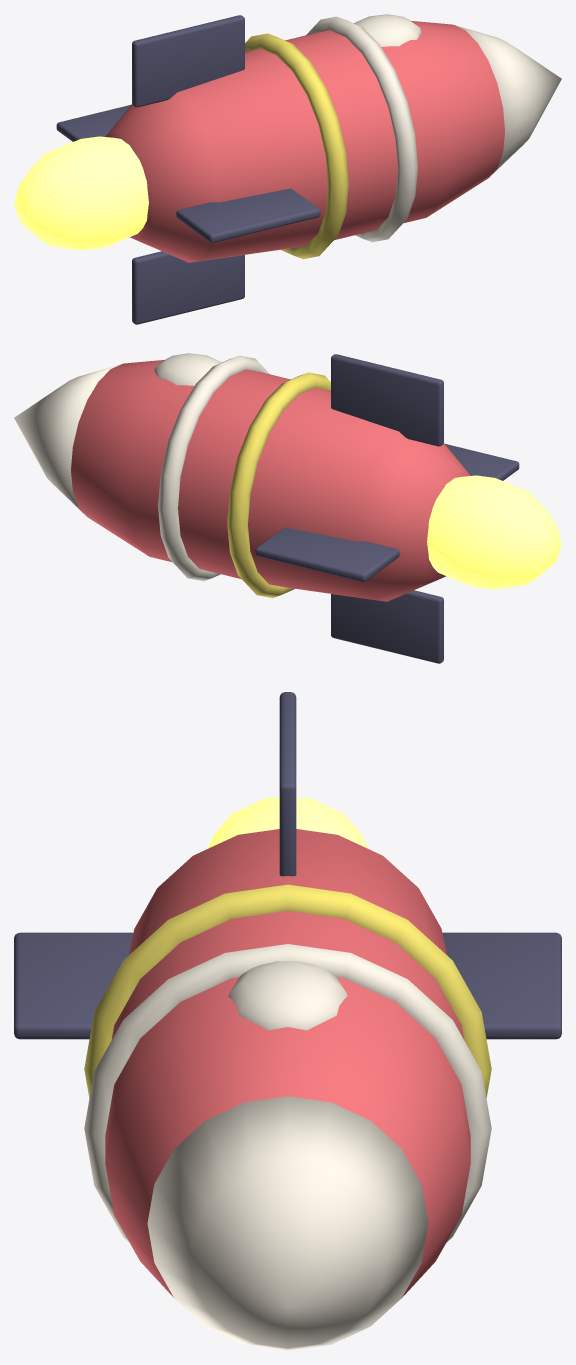
The model's file is weap_missile.glb.
3 renders of one model, top to bottom at view 1: azimuth 30°, elevation 25°; view 2: azimuth 150°, elevation 25°; view 3: azimuth 270°, elevation 25°, orthographic. The views are drawn at different scales.
Parts seen in each view (by area): view 1: W_Missile__ms_red, W_Missile__ms_navy, W_Missile__ms_glow, W_Missile__ms_cream, W_Missile__ms_yellow; view 2: W_Missile__ms_red, W_Missile__ms_navy, W_Missile__ms_glow, W_Missile__ms_cream, W_Missile__ms_yellow; view 3: W_Missile__ms_cream, W_Missile__ms_red, W_Missile__ms_navy, W_Missile__ms_yellow, W_Missile__ms_glow.
Part boxes in pixels (bbox=[...]): W_Missile__ms_red: bbox=[105, 21, 504, 262]; W_Missile__ms_navy: bbox=[56, 15, 320, 324]; W_Missile__ms_glow: bbox=[14, 136, 148, 250]; W_Missile__ms_cream: bbox=[306, 14, 561, 242]; W_Missile__ms_yellow: bbox=[245, 33, 348, 259]; W_Missile__ms_red: bbox=[71, 360, 470, 601]; W_Missile__ms_navy: bbox=[255, 354, 519, 663]; W_Missile__ms_glow: bbox=[427, 475, 561, 589]; W_Missile__ms_cream: bbox=[14, 353, 269, 581]; W_Missile__ms_yellow: bbox=[227, 372, 330, 598]; W_Missile__ms_cream: bbox=[84, 944, 491, 1350]; W_Missile__ms_red: bbox=[105, 829, 470, 1297]; W_Missile__ms_navy: bbox=[14, 692, 561, 1039]; W_Missile__ms_yellow: bbox=[84, 884, 491, 1098]; W_Missile__ms_glow: bbox=[207, 798, 368, 848].
Size of the model in its own units: 0.7799 by 0.39 by 0.39.
